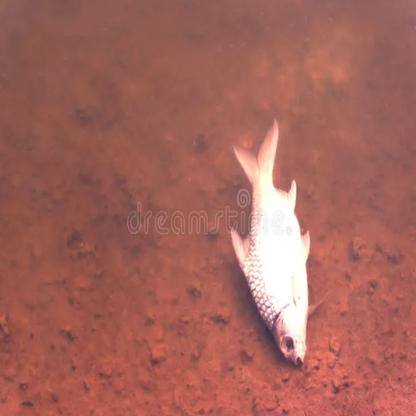deceased fish: (221, 110, 318, 372)
